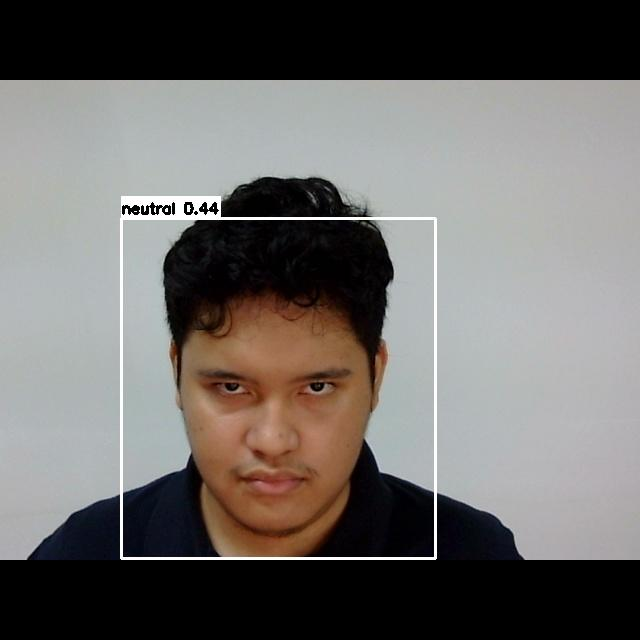Angry: (188, 344, 377, 509)
